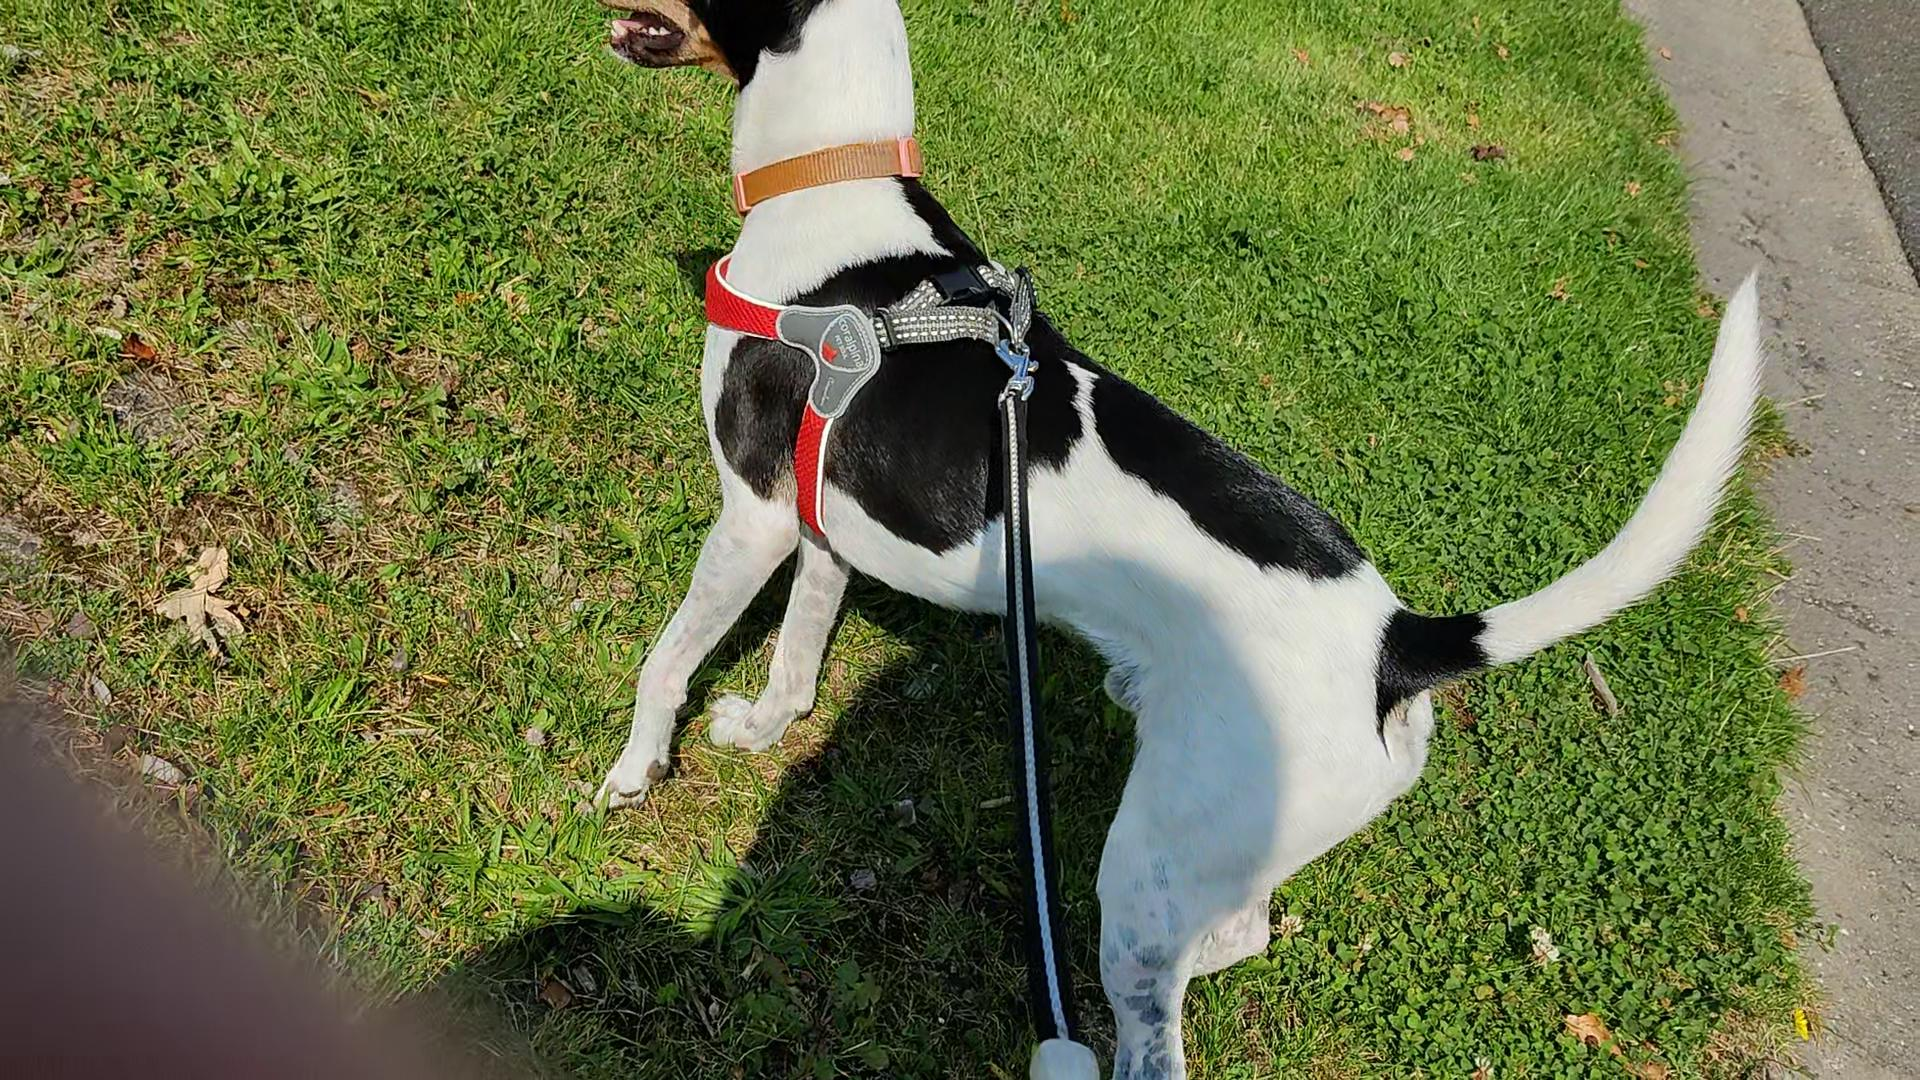Dog: (575, 0, 1783, 1080)
